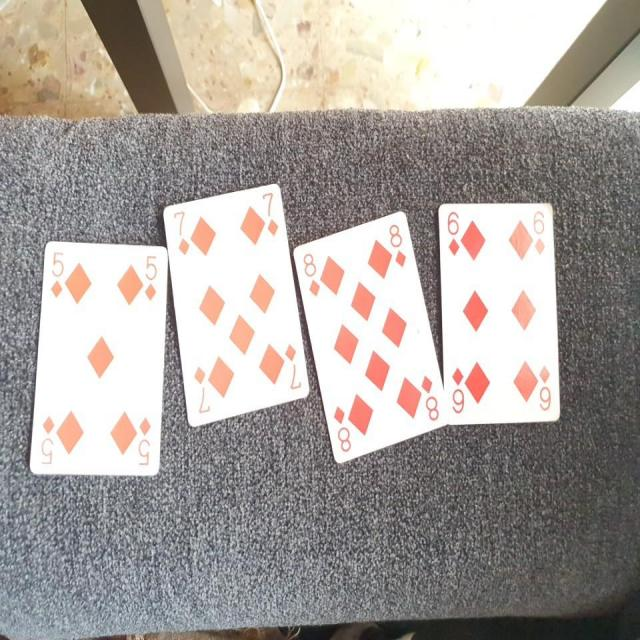5 Diamonds: (24, 236, 167, 484)
6 Diamonds: (437, 197, 564, 426)
7 Diamonds: (162, 181, 311, 426)
8 Diamonds: (293, 210, 443, 466)
